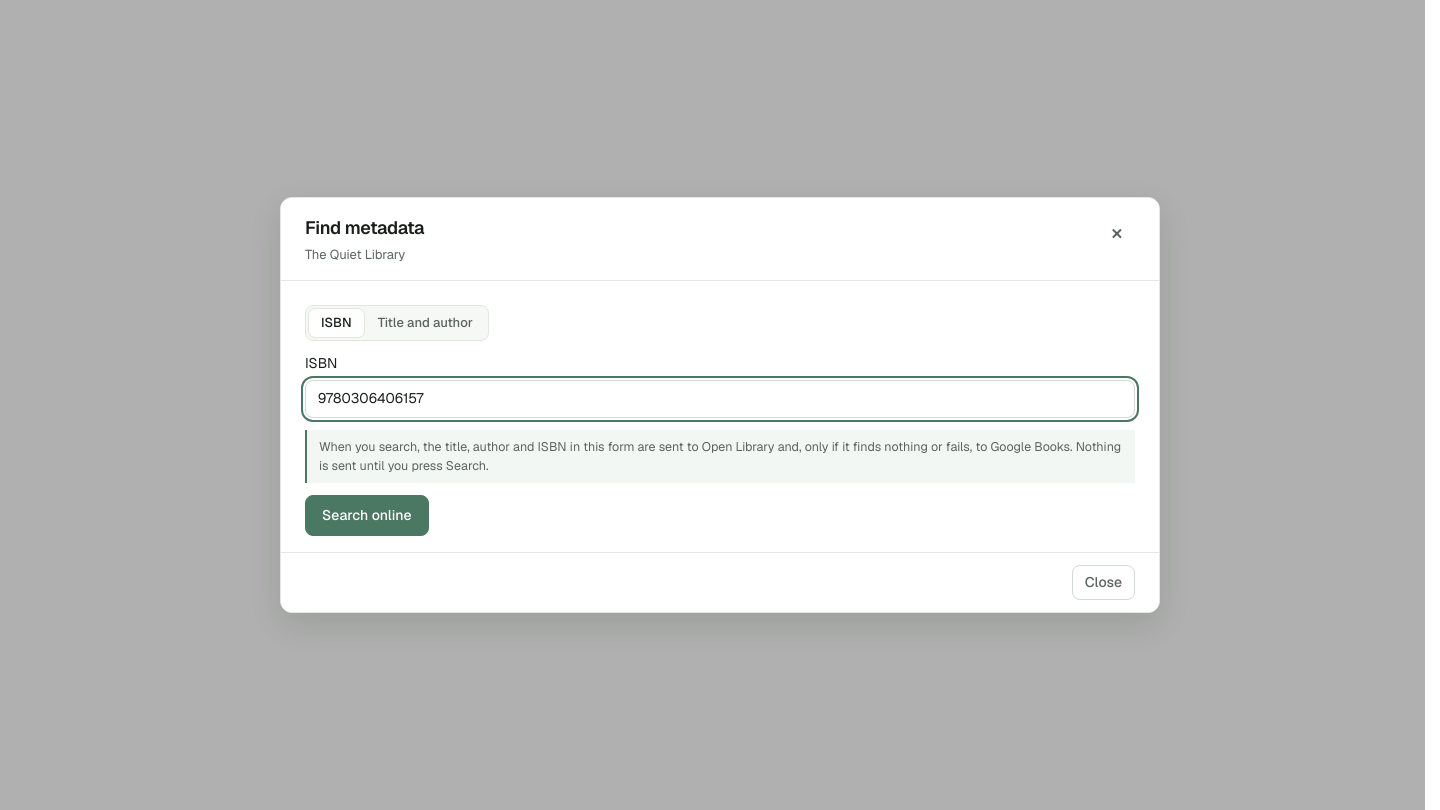
FindMetadataDialog › explains the most actionable failure first when nothing matched
This screenshot has width=1440, height=810.
Expected: the field labelled "ISBN" is shown, [305,380,1135,418]
Click the button "Search online" at [367, 516], box [305,495,428,536]
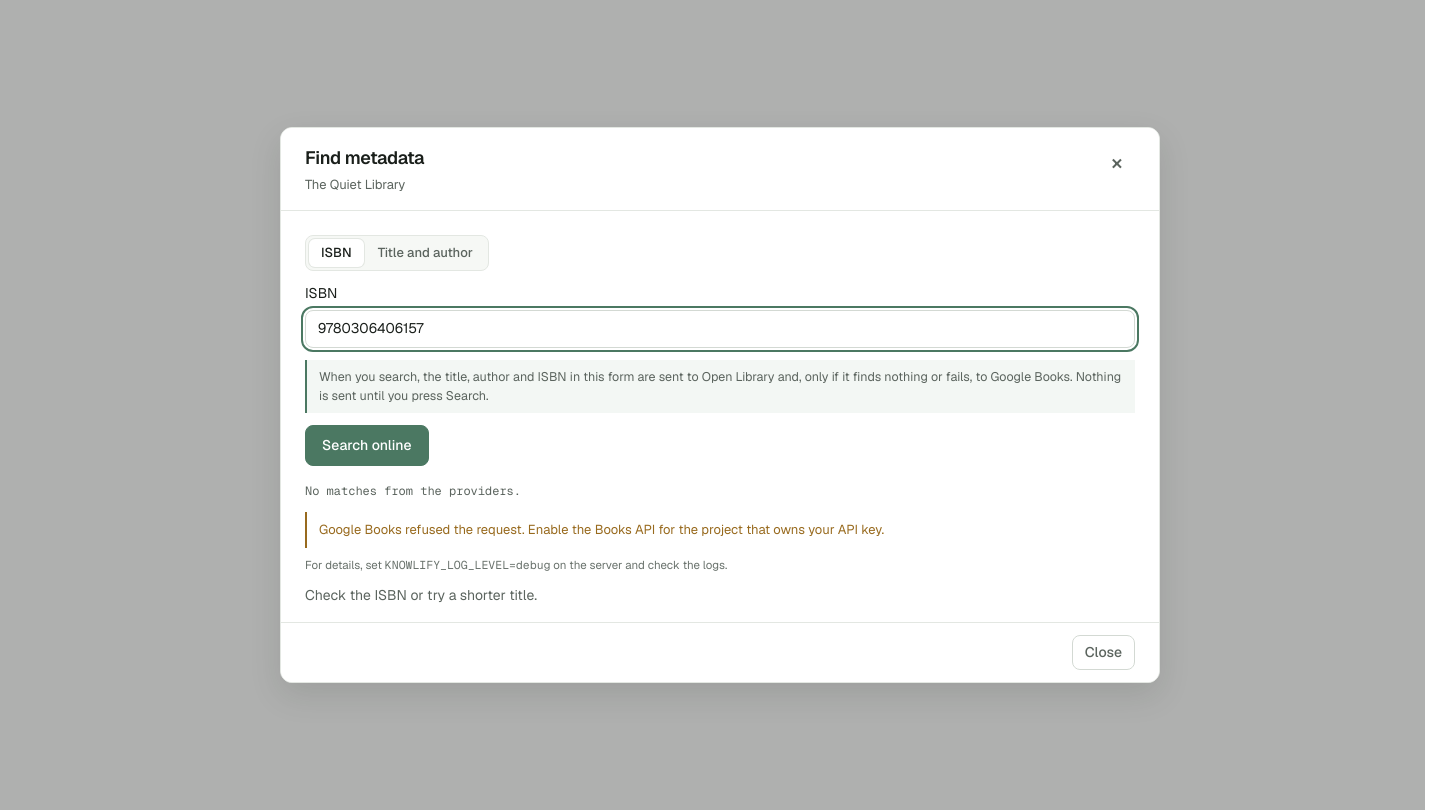
Now the text "Google Books refused the request" is shown, box [319,521,884,538]
Now the text "KNOWLIFY_LOG_LEVEL=debug" is shown, box [385,557,550,572]
